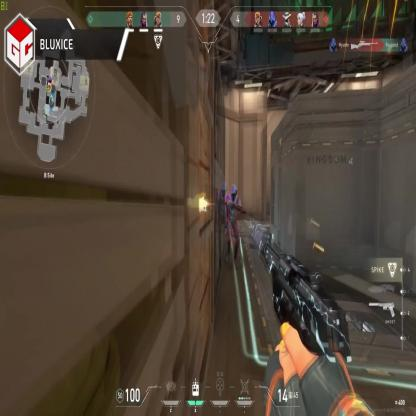enemy: (223, 182, 239, 266)
enemy_head: (230, 184, 237, 198)
